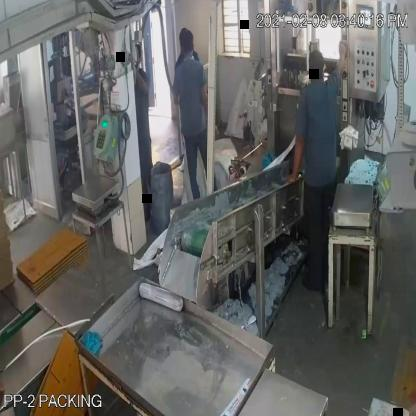no_glove: (284, 124, 310, 192), (329, 38, 351, 80)
